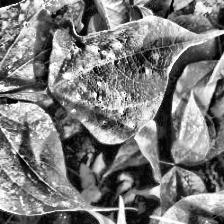Bean Rust: (49, 17, 218, 136), (0, 105, 76, 218), (0, 0, 85, 98), (154, 157, 224, 224), (97, 193, 138, 224), (209, 0, 224, 79)
